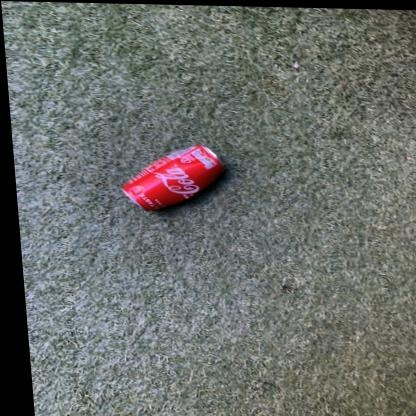trash: (123, 144, 223, 209)
